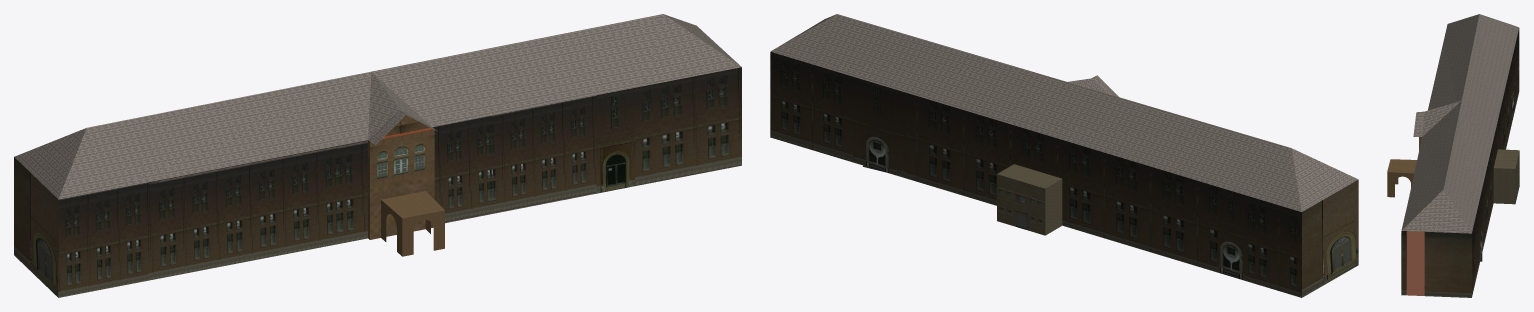
Rendered from bxg.gltf.
3 renders of one model, left to right at view 1: azimuth 30°, elevation 25°; view 2: azimuth 150°, elevation 25°; view 3: azimuth 270°, elevation 25°, orthographic. The views are drawn at different scales.
Parts seen in each view (by area): view 1: bxg_main.kmz, root; view 2: bxg_main.kmz, bxg_back.kmz; view 3: bxg_main.kmz, bxg_back.kmz, root.
Boxes of the visible parts, box(x1,y1,x2,y2) form: bxg_main.kmz: box(14, 14, 741, 297); root: box(381, 191, 444, 256); bxg_main.kmz: box(770, 14, 1358, 297); bxg_back.kmz: box(997, 164, 1062, 235); bxg_main.kmz: box(1401, 14, 1519, 297); bxg_back.kmz: box(1493, 149, 1519, 204); root: box(1387, 159, 1416, 197).
Size of the model in its own units: 92.02 by 18.67 by 24.61.
Materials: 15 (14 with a texture image).
